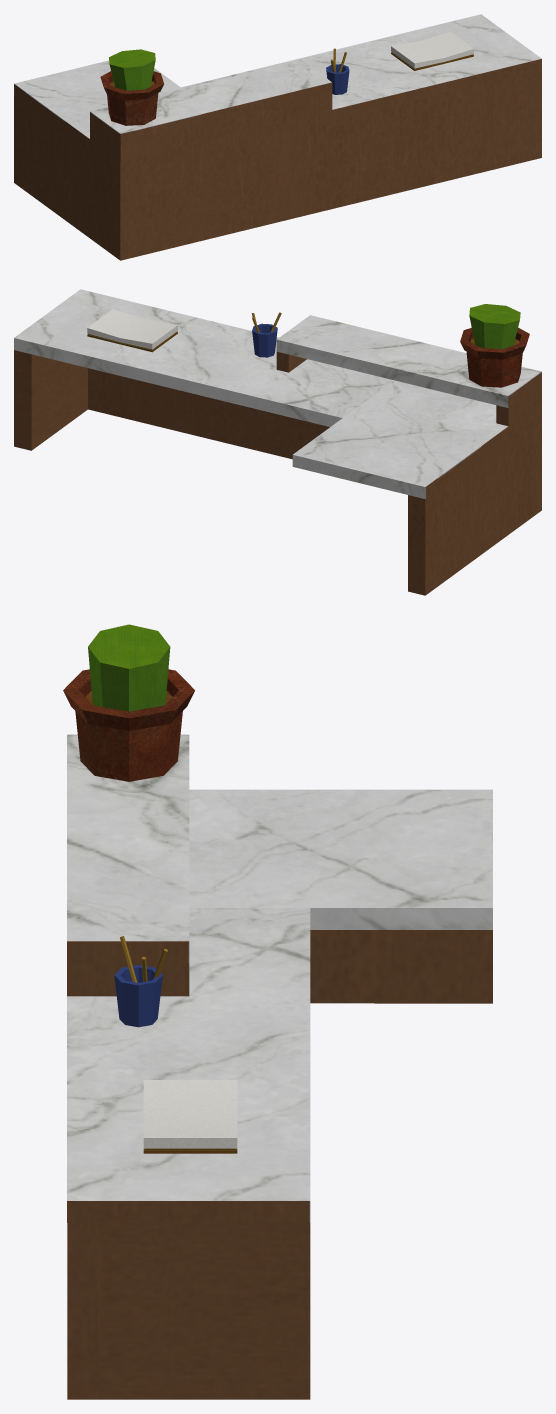
Rendered from reception-desk.glb.
3 renders of one model, top to bottom at view 1: azimuth 30°, elevation 25°; view 2: azimuth 150°, elevation 25°; view 3: azimuth 270°, elevation 25°, orthographic. The views are drawn at different scales.
Visible parts, largest first — view 1: desk-uvd; view 2: desk-uvd; view 3: desk-uvd.
Part boxes in pixels (<box>): desk-uvd: <box>14,14,541,260</box>; desk-uvd: <box>14,289,541,595</box>; desk-uvd: <box>63,624,492,1399</box>.
Size of the model in its own units: 4.01 by 1.67 by 1.77.
1 material, 1 textured.
